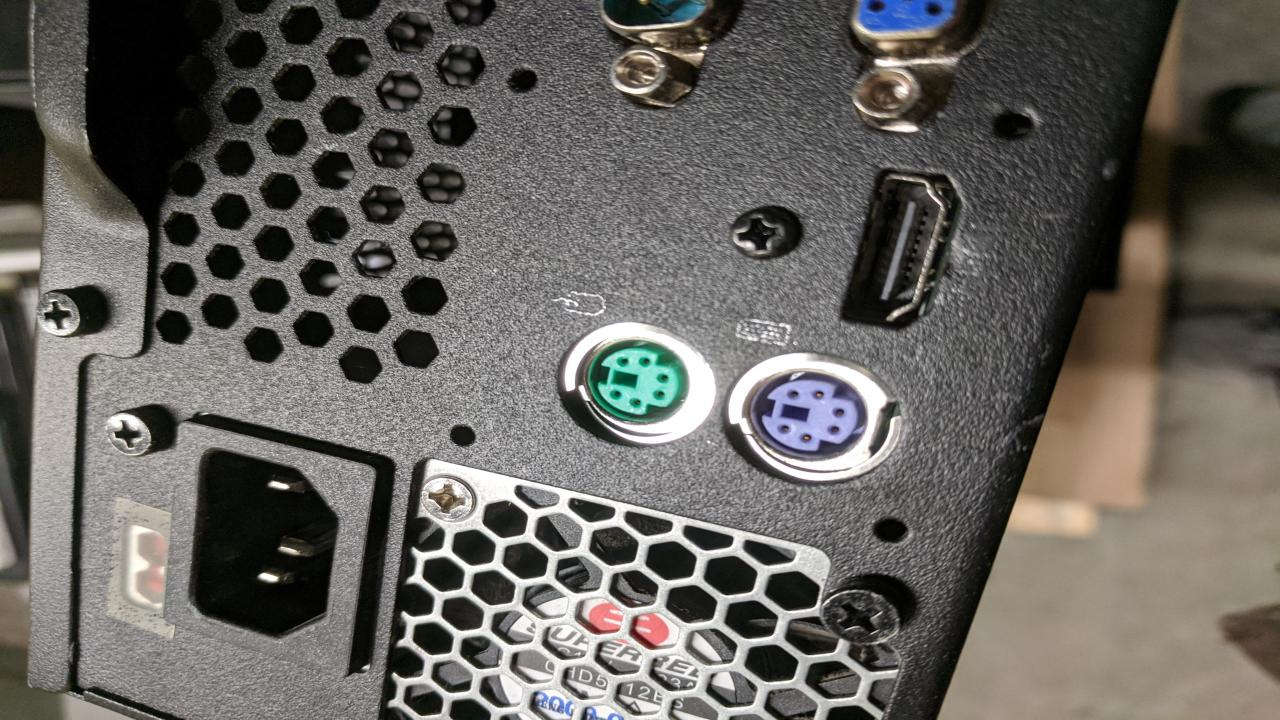CRS: (818, 583, 908, 650), (725, 203, 805, 267), (414, 474, 474, 520), (36, 288, 88, 338), (108, 412, 154, 458)
